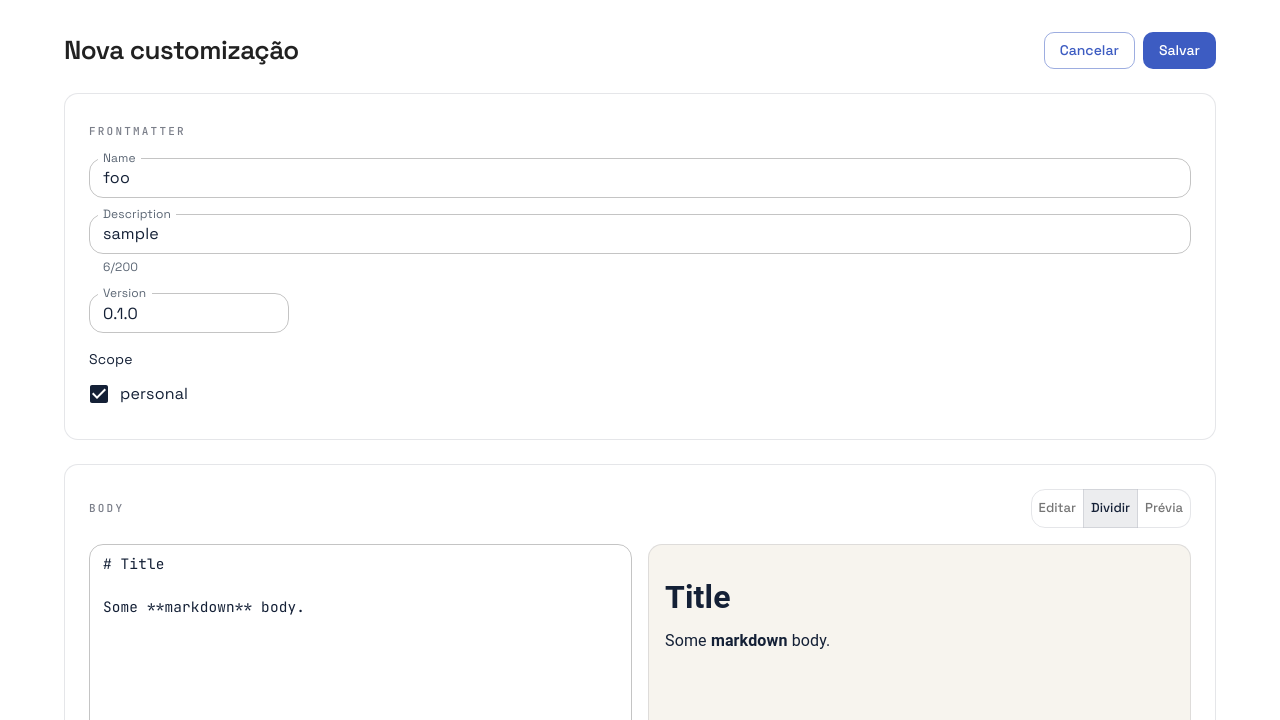
Test: <CustomizationEditor> › shows error toast with the validation message when save fails
Click the button "Salvar" at (1179, 50), box [1143,32,1216,68]
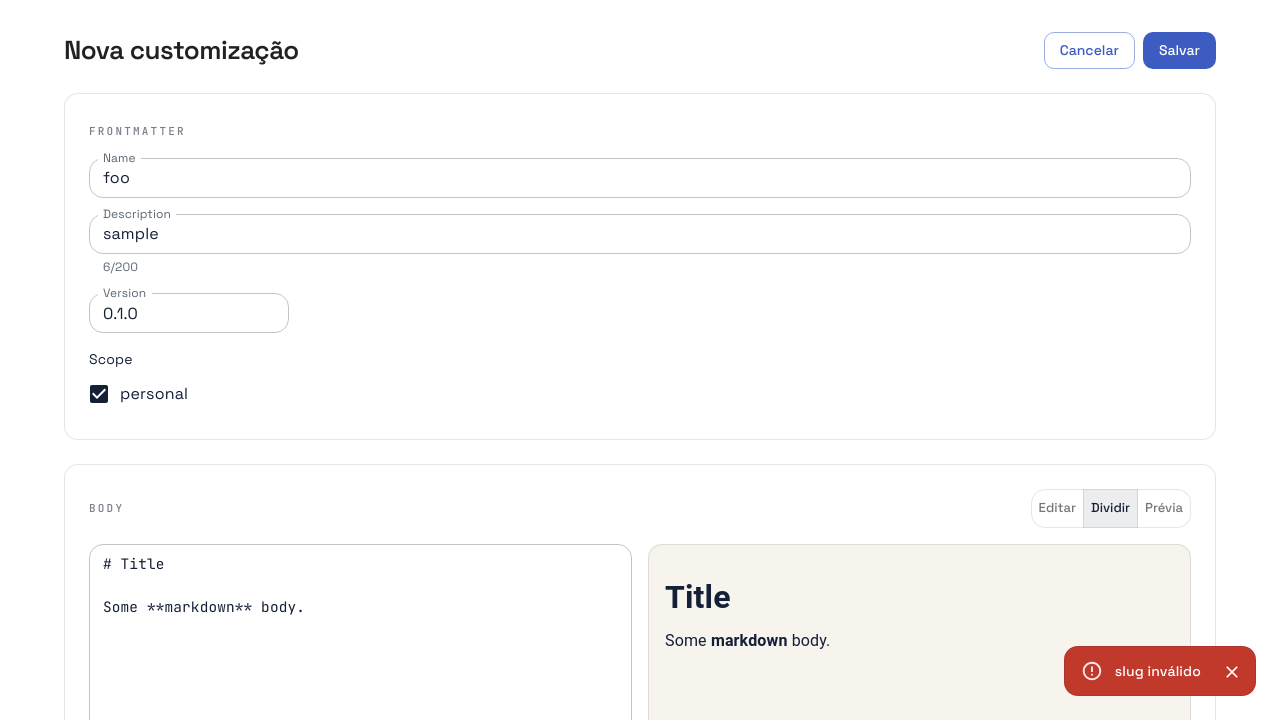
Expected: the message with test id "toast" reads "slug inválido", [1115,662,1201,680]
